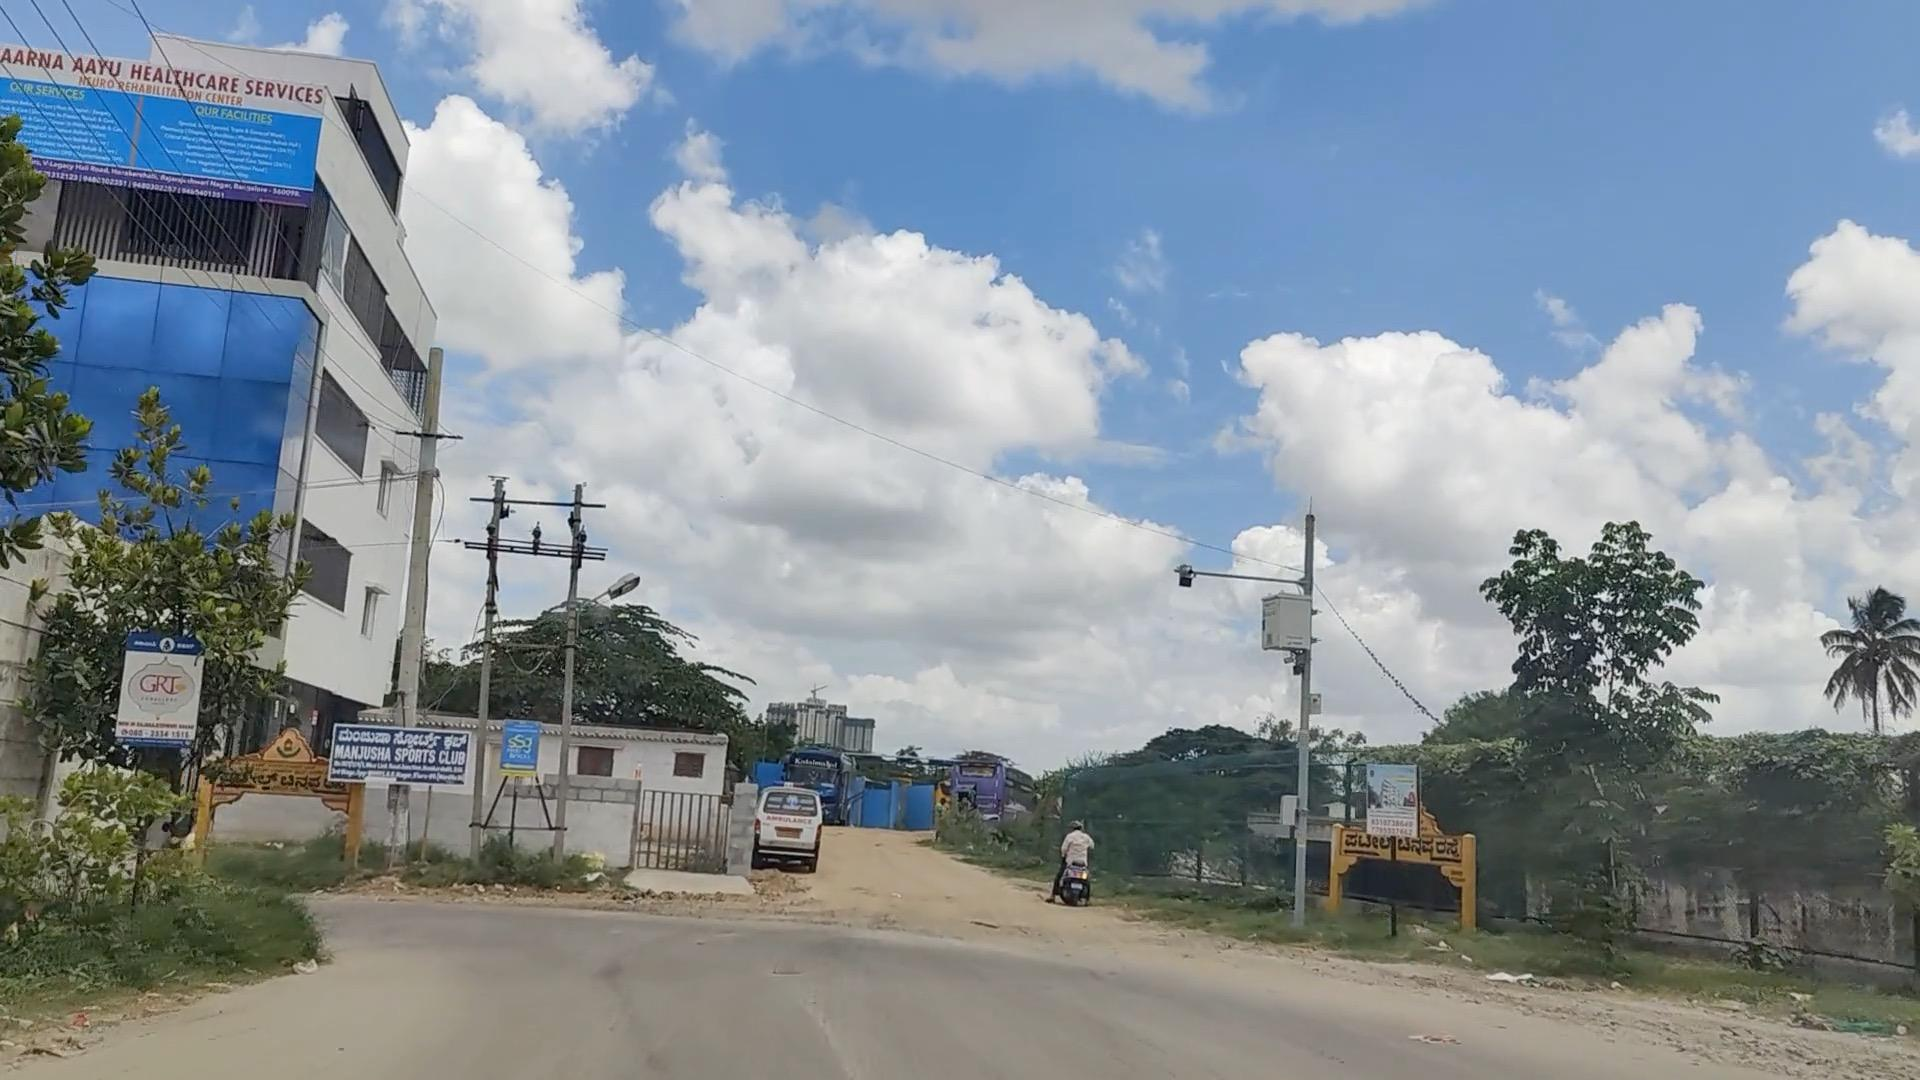LMV: (757, 781, 820, 868)
